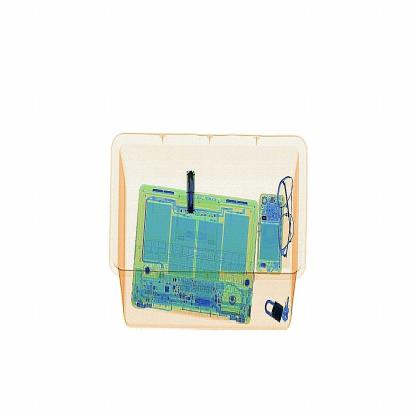scissors: (184, 156, 201, 226)
